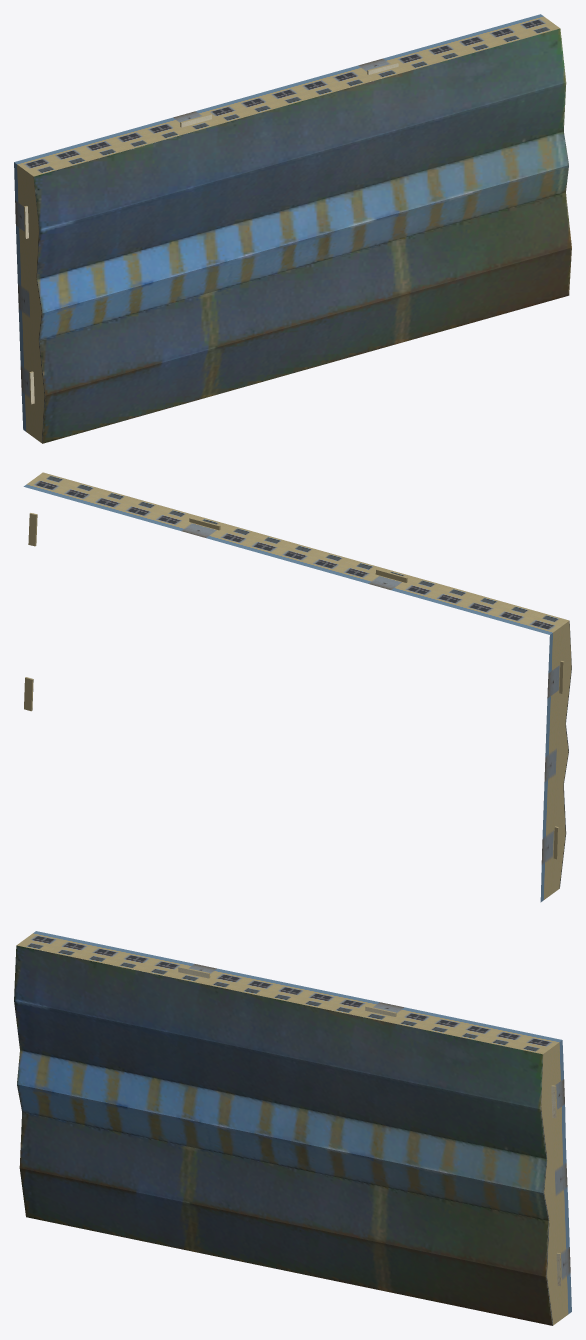
The picture shows the model from 3 angles, top to bottom: view 1: azimuth 30°, elevation 25°; view 2: azimuth 150°, elevation 25°; view 3: azimuth 330°, elevation 25°; orthographic projection.
Parts seen in each view (by area): view 1: Group_MatrixTransform_i96001_Geometry_6, Group_MatrixTransform_i96001_Geometry_2, Group_MatrixTransform_i96001_Geometry_5, Group_MatrixTransform_i96001_Geometry_0, Group_MatrixTransform_i96001_Geometry_1, Group_MatrixTransform_i96001_Geometry_3, Group_MatrixTransform_i96001_Geometry_7; view 2: Group_MatrixTransform_i96001_Geometry_2, Group_MatrixTransform_i96001_Geometry_5, Group_MatrixTransform_i96001_Geometry_0, Group_MatrixTransform_i96001_Geometry_3, Group_MatrixTransform_i96001_Geometry_1; view 3: Group_MatrixTransform_i96001_Geometry_6, Group_MatrixTransform_i96001_Geometry_2, Group_MatrixTransform_i96001_Geometry_5, Group_MatrixTransform_i96001_Geometry_0, Group_MatrixTransform_i96001_Geometry_3, Group_MatrixTransform_i96001_Geometry_1, Group_MatrixTransform_i96001_Geometry_7.
Part boxes in pixels (box(x1,y1,x2,y2)): Group_MatrixTransform_i96001_Geometry_6: box(34, 28, 571, 443); Group_MatrixTransform_i96001_Geometry_2: box(14, 14, 559, 176); Group_MatrixTransform_i96001_Geometry_5: box(24, 62, 397, 443); Group_MatrixTransform_i96001_Geometry_0: box(17, 265, 35, 438); Group_MatrixTransform_i96001_Geometry_1: box(169, 57, 406, 132); Group_MatrixTransform_i96001_Geometry_3: box(14, 162, 30, 274); Group_MatrixTransform_i96001_Geometry_7: box(25, 63, 398, 404); Group_MatrixTransform_i96001_Geometry_2: box(23, 472, 569, 634); Group_MatrixTransform_i96001_Geometry_5: box(24, 513, 571, 892); Group_MatrixTransform_i96001_Geometry_0: box(540, 729, 559, 902); Group_MatrixTransform_i96001_Geometry_3: box(546, 625, 562, 737); Group_MatrixTransform_i96001_Geometry_1: box(176, 515, 414, 591); Group_MatrixTransform_i96001_Geometry_6: box(14, 945, 552, 1325); Group_MatrixTransform_i96001_Geometry_2: box(16, 931, 561, 1054); Group_MatrixTransform_i96001_Geometry_5: box(178, 966, 561, 1325); Group_MatrixTransform_i96001_Geometry_0: box(553, 1145, 571, 1320); Group_MatrixTransform_i96001_Geometry_3: box(549, 1040, 565, 1153); Group_MatrixTransform_i96001_Geometry_1: box(171, 963, 408, 1022); Group_MatrixTransform_i96001_Geometry_7: box(178, 967, 560, 1286).
Bounding box in the file's own units: 86.75 × 44.46 × 6.74.
Materials: 8 (8 with a texture image).
